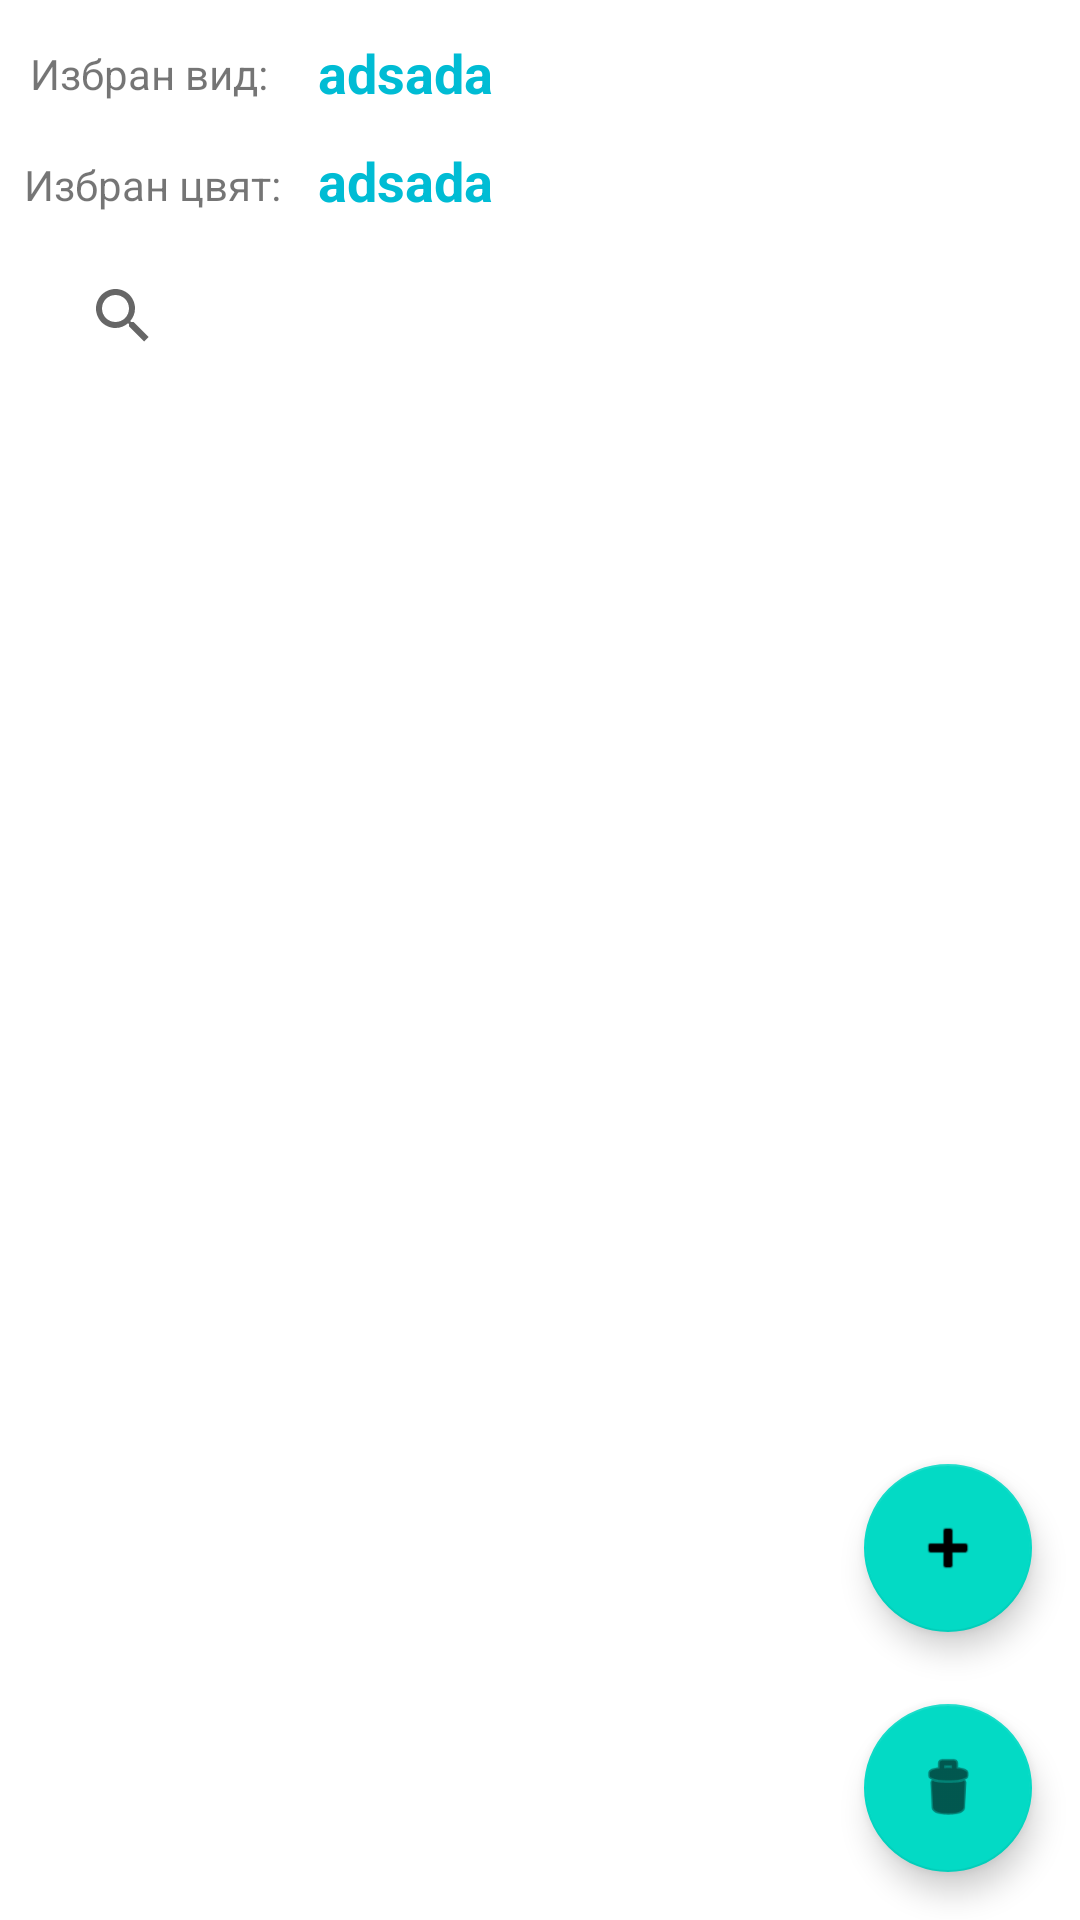

Locate icon controls on the screen. Image size 1080×1920, boxes as (x1, y1, x2, y2).
add: (864, 1464, 1032, 1632)
delete: (864, 1704, 1032, 1872)
